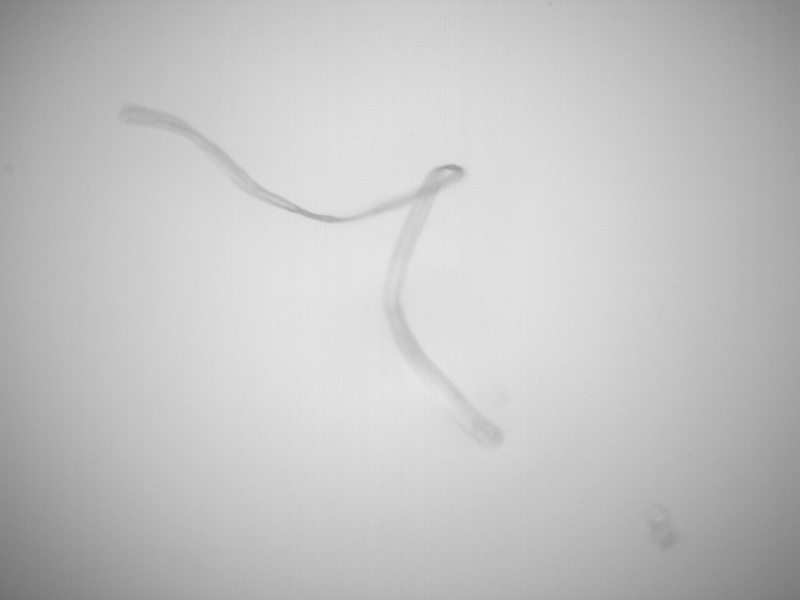fiber: (119, 103, 513, 456)
